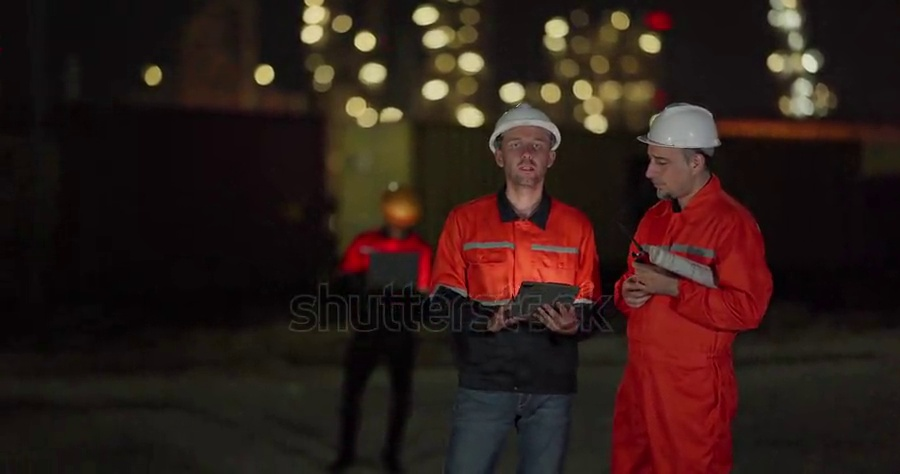helmet: (636, 102, 721, 150), (488, 102, 562, 151), (381, 188, 424, 229)
person: (421, 103, 605, 474), (607, 103, 775, 474), (326, 185, 438, 474)
